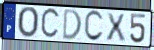5: (130, 13, 147, 45)
C: (39, 6, 61, 41), (83, 9, 105, 43)
D: (61, 8, 83, 41)
O: (16, 6, 40, 40)
X: (105, 12, 127, 42)
